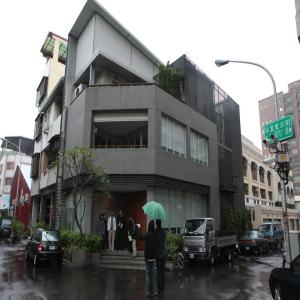Vehicle-registration-plate: (49, 246, 56, 250), (190, 254, 195, 259)
